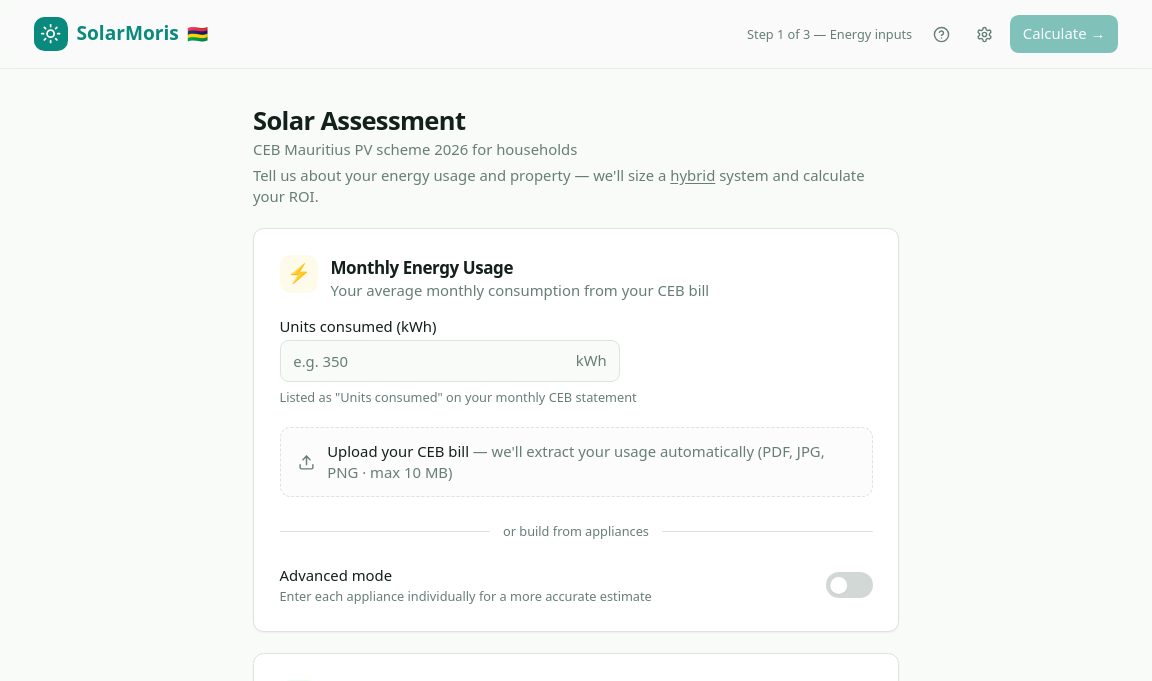
it: DashboardPage — form validation › Calculate button is disabled again when the field is cleared
This screenshot has width=1152, height=681.
Type "350" into the number field labelled "Units consumed (kWh)". click: x=450, y=361
box: [280,340,620,382]
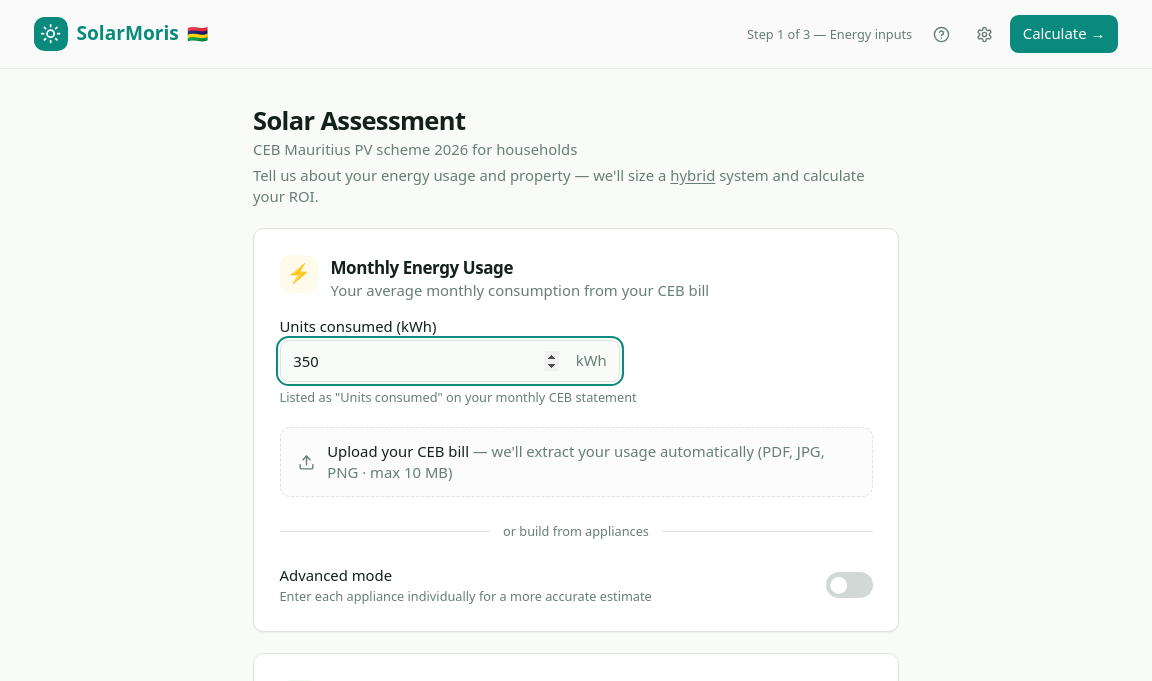
Clear the number field labelled "Units consumed (kWh)". click: x=450, y=361
box: [280,340,620,382]
(page scrolled)
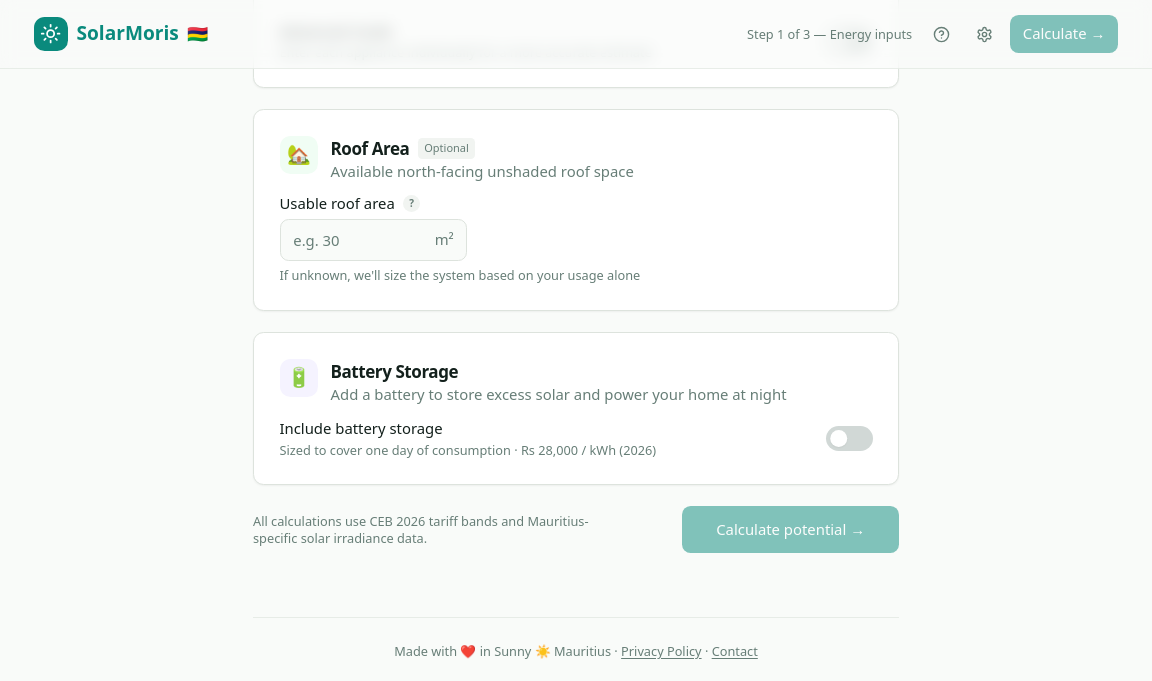
Result: the button "Calculate potential →" is disabled at [682,506,899,553]
